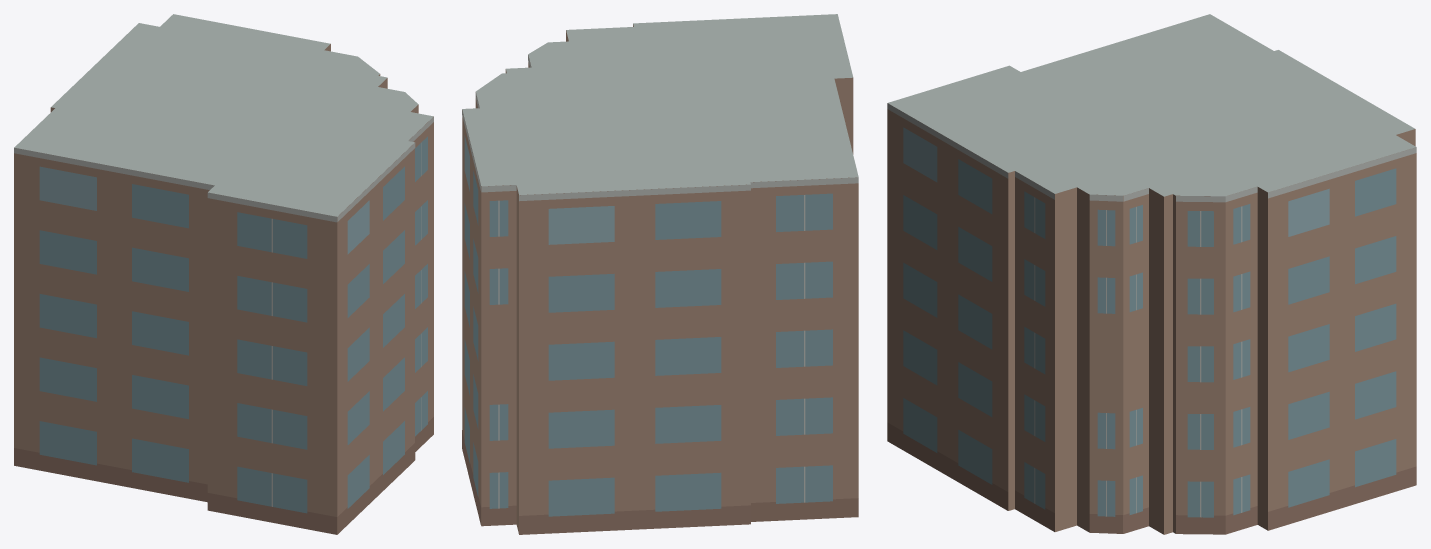
Rendered from survey-upis-32619812.glb.
3 views of the same model, side by side, from view 1: azimuth 30°, elevation 25°; view 2: azimuth 150°, elevation 25°; view 3: azimuth 270°, elevation 25° (orthographic). The views are drawn at different scales.
Visible parts, largest first — view 1: survey-upis-32619812.tmp; view 2: survey-upis-32619812.tmp; view 3: survey-upis-32619812.tmp.
Part boxes in pixels (x1,y1,x2,y2): survey-upis-32619812.tmp: (14,14,433,534); survey-upis-32619812.tmp: (462,14,858,534); survey-upis-32619812.tmp: (887,14,1416,534).
Size of the model in its own units: 15.93 by 13.75 by 19.5.
